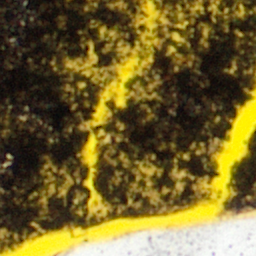cement_matrix: (0, 0, 141, 248), (94, 0, 255, 215), (227, 131, 255, 209), (140, 165, 153, 177), (175, 170, 183, 182), (149, 192, 158, 200), (173, 34, 181, 42), (178, 18, 183, 23), (194, 4, 198, 9)
cracks: (0, 0, 255, 255), (141, 166, 152, 176), (176, 171, 182, 181), (150, 193, 157, 199), (174, 35, 180, 41), (179, 19, 182, 22), (195, 5, 197, 8)
gravel_crushed_stones: (56, 214, 255, 255)
